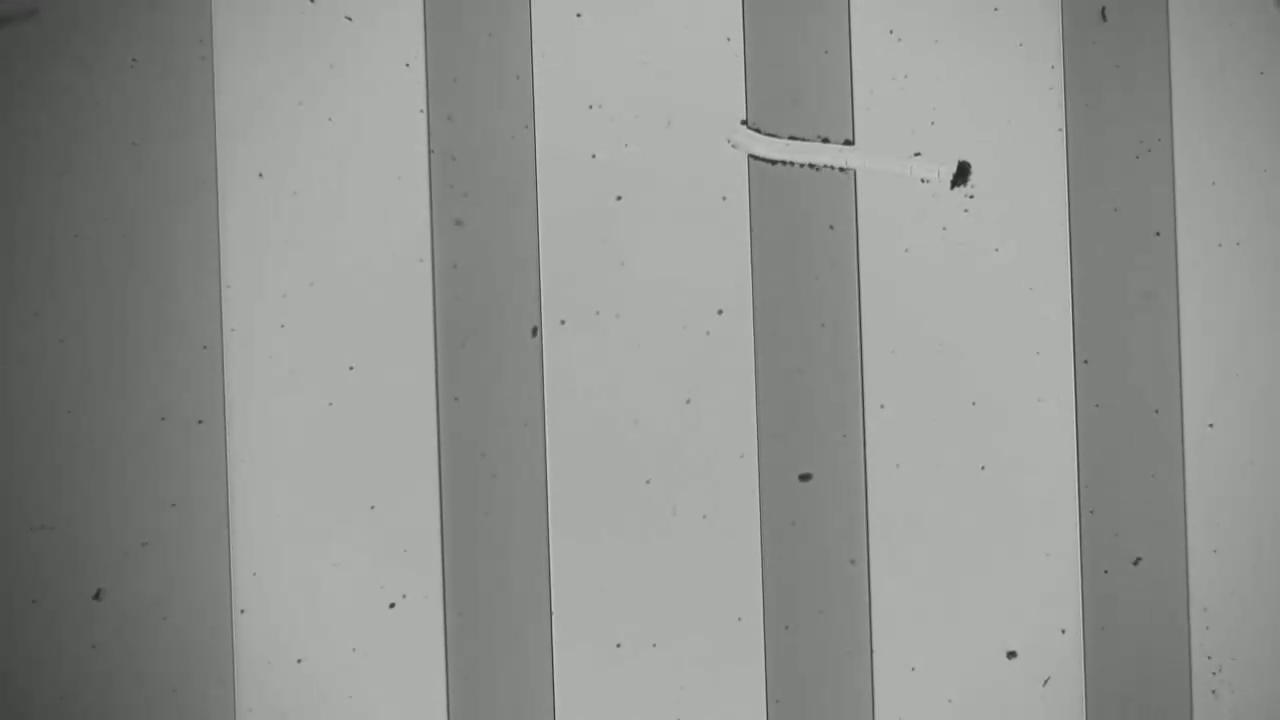Short_circuit: (730, 86, 890, 211)
